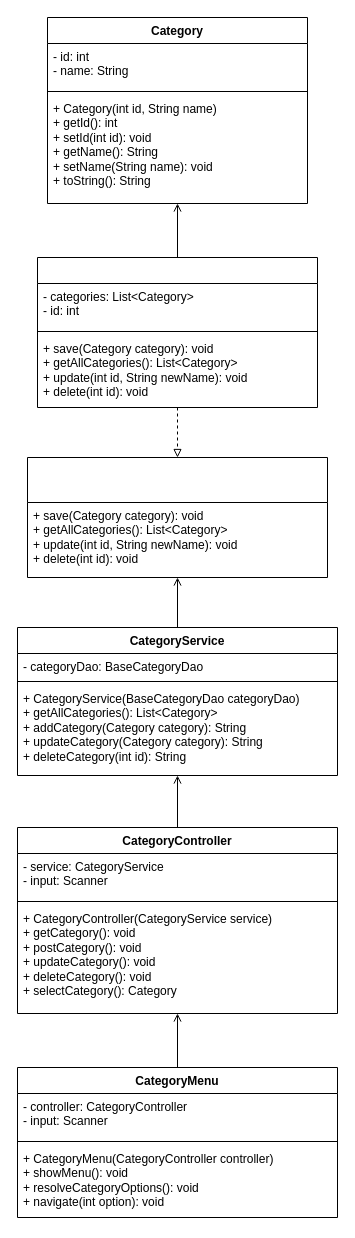
Some shapes in this 355 by 1238 pixel diagram are drawn without their labels. The box of each missing label's shape, as (x1, y1, x2, y2) in pixels:
<< interface >> BaseCategoryDao: (26, 456, 328, 578)
CategoryDao: (36, 256, 318, 408)
